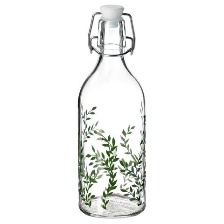bottle: (67, 2, 151, 221)
